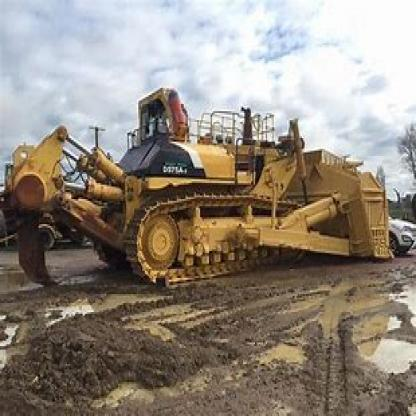bull_dozer/loader/grader: (18, 79, 406, 281)
